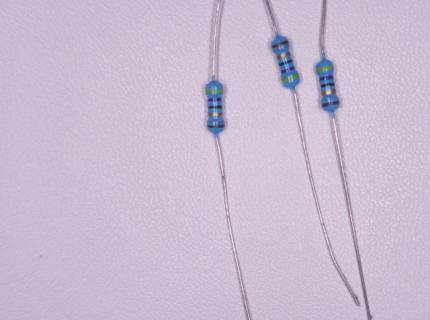Gold band: (276, 52, 291, 60), (321, 88, 336, 96), (208, 111, 223, 117)
Violet band: (280, 66, 295, 74), (319, 75, 334, 81), (208, 97, 223, 102)
Yellow band: (282, 73, 300, 84), (316, 65, 334, 73), (206, 89, 224, 93)
